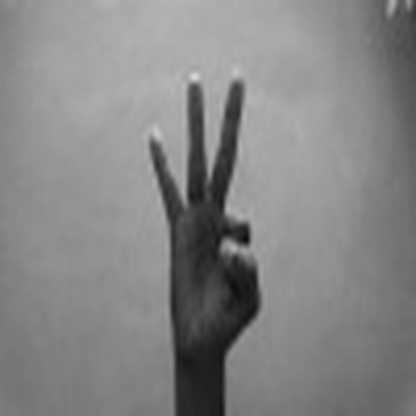f: (133, 70, 286, 365)
